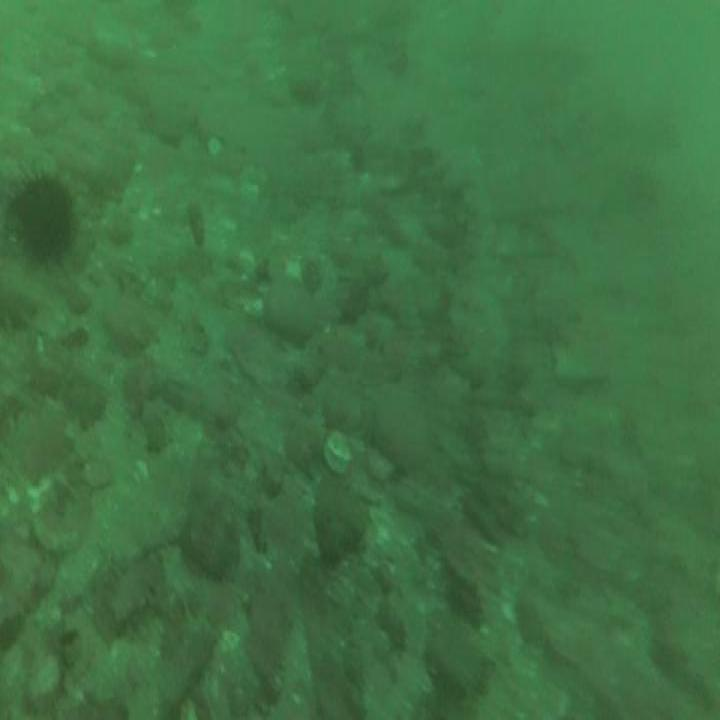echinus: (16, 174, 75, 263)
scallop: (324, 425, 353, 482)
